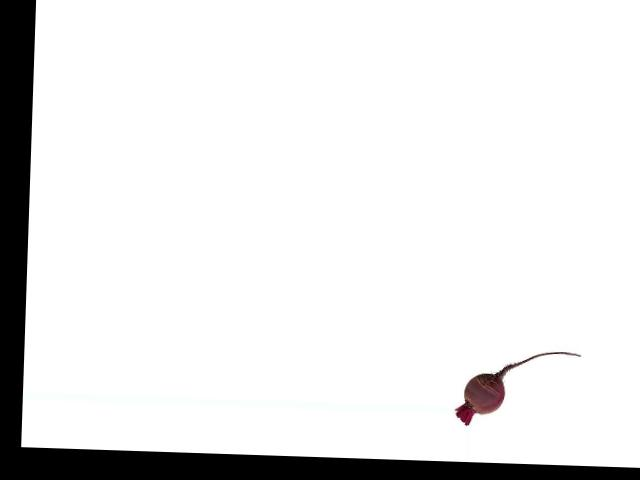beet: (455, 348, 582, 429)
